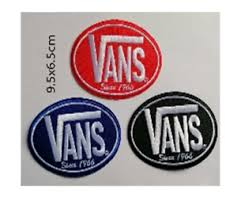vans: (43, 111, 106, 161), (88, 33, 147, 83), (143, 106, 203, 153)
